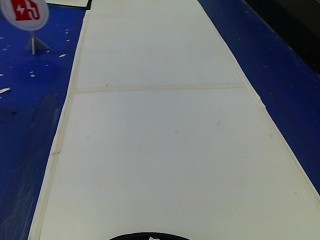battery: (0, 0, 54, 28)
